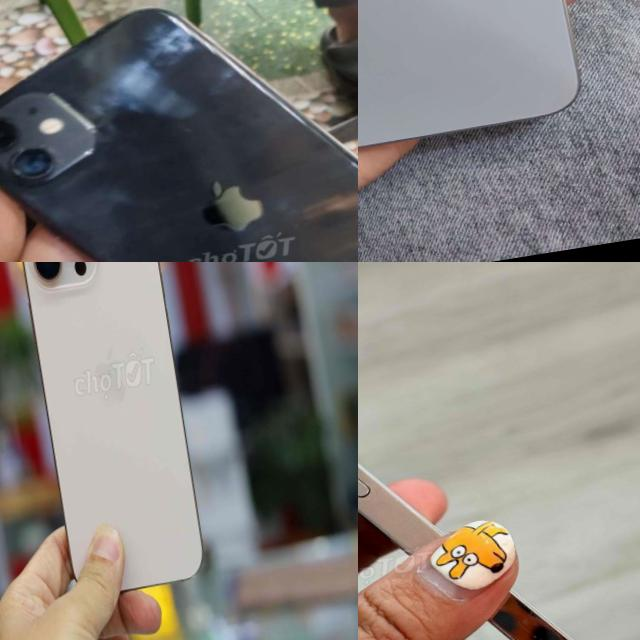gen_11: (0, 0, 358, 262)
gen_14: (358, 262, 640, 640)
gen_15: (358, 0, 603, 178)
gen_16: (0, 262, 223, 613)
